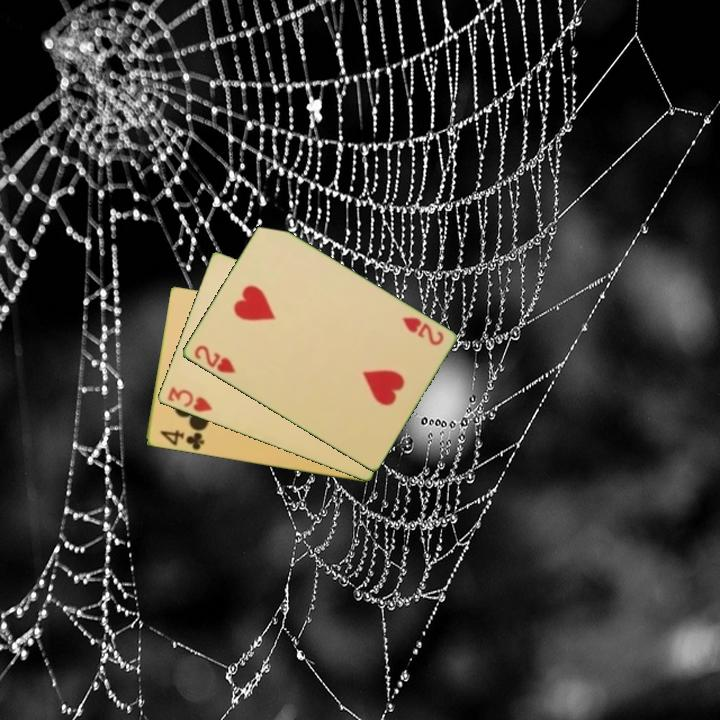2h: (398, 313, 446, 349), (190, 342, 238, 376)
3h: (164, 384, 215, 415)
4c: (156, 426, 206, 453)
